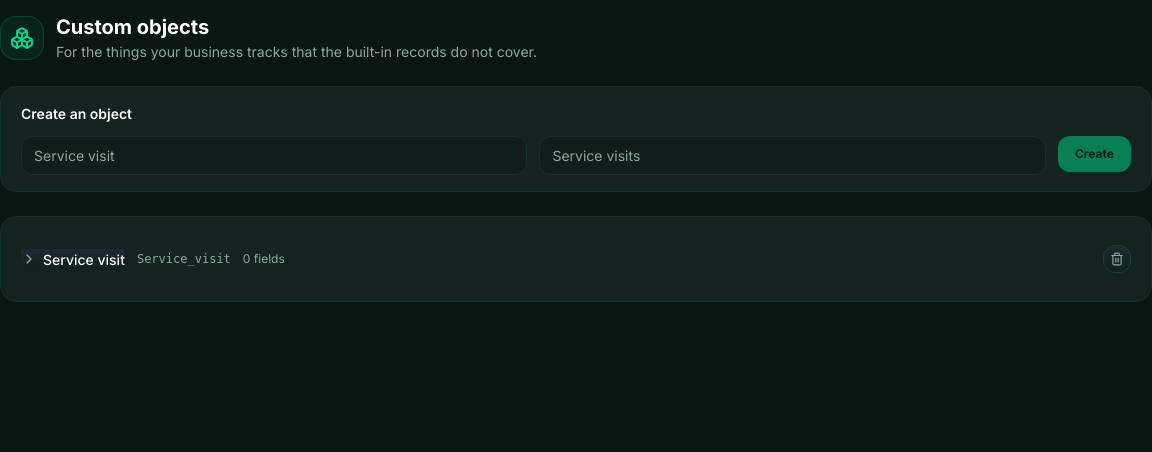
custom objects › refuses a Reference field rather than sending one with no target
This screenshot has width=1152, height=452.
Click the button with aria-label "fields of service visit" at [73, 259], box [21,248,125,270]
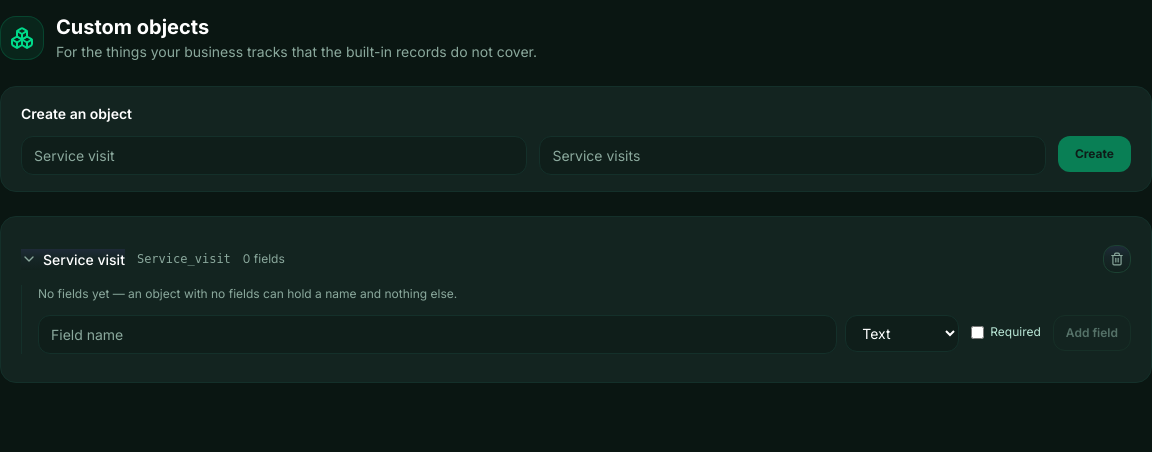
Type "Related deal" into the field labelled "Field name" at [438, 334], box [38,315,837,354]
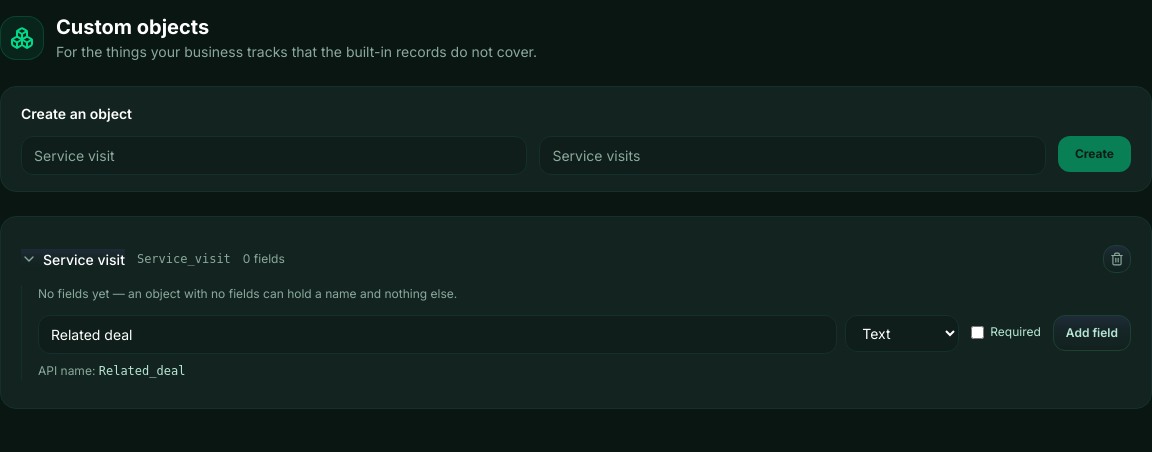
Select "Reference" in the dropdown named "field type" at [902, 334], box [845,315,959,352]
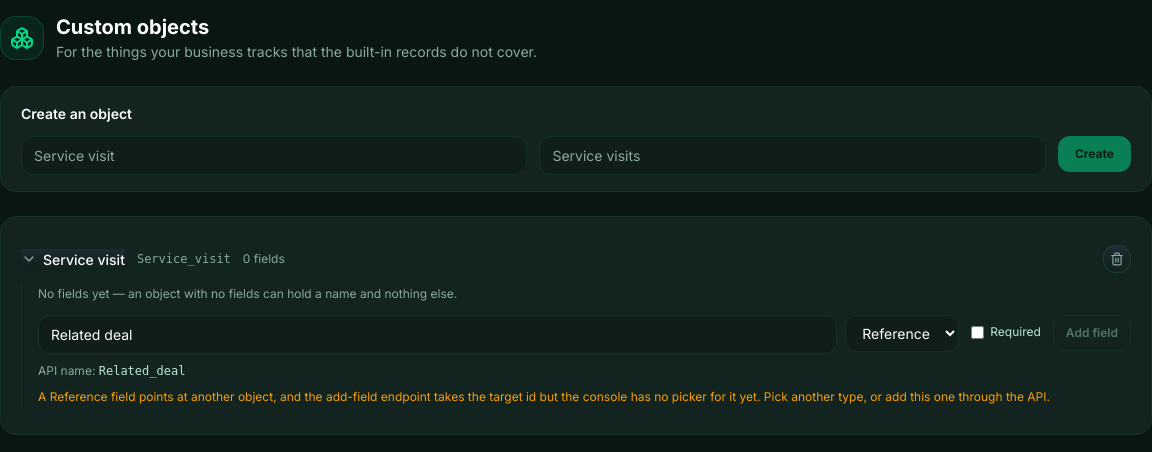
Result: the text with test id "custom-object-reference-unsupported" is shown at [38,388,1131,406]
Result: the button "Add field" is disabled at [1053,315,1131,351]
